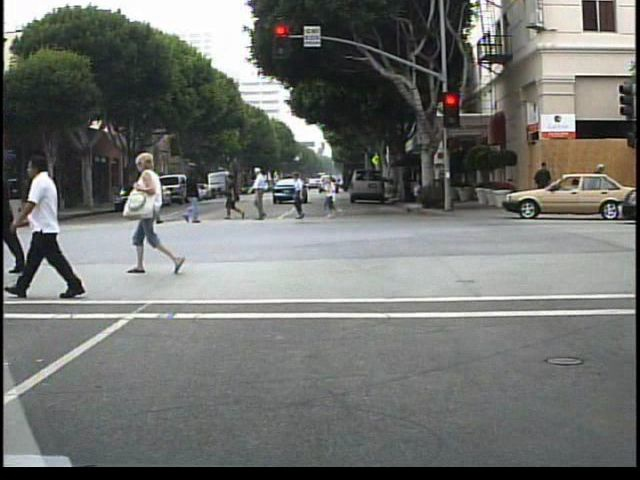person: (38, 152, 109, 299), (125, 150, 191, 279), (178, 170, 207, 228), (248, 166, 278, 222), (223, 170, 247, 223), (586, 159, 609, 214), (291, 169, 314, 222), (533, 157, 554, 212), (142, 171, 163, 225), (4, 183, 24, 235), (16, 195, 38, 238)
